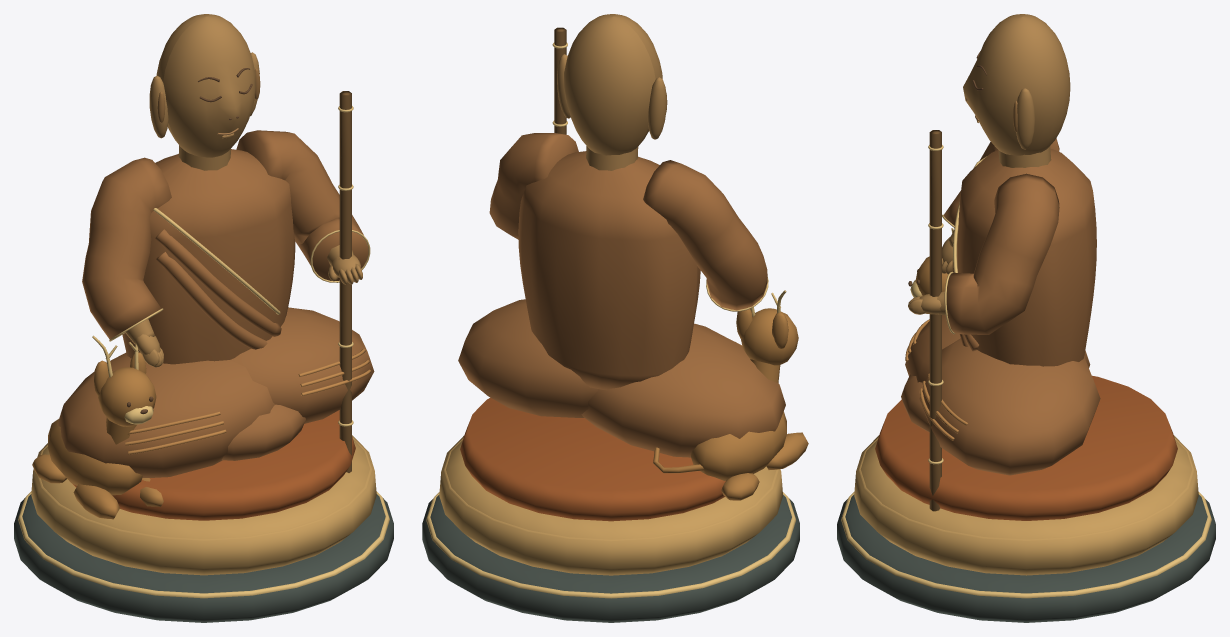
File: arhat_15_lod1.glb
3 views of the same model, side by side, from view 1: azimuth 30°, elevation 25°; view 2: azimuth 150°, elevation 25°; view 3: azimuth 270°, elevation 25° (orthographic).
Parts seen in each view (by area): view 1: arhat_15_ArhatDrapery, arhat_15_AntiqueGold, arhat_15_CarvedPlinth, arhat_15_WarmBronze, arhat_15_SaffronDrapery, arhat_15_AnimalBronze, arhat_15_RaisedGoldBorders, arhat_15_CarvedBamboo, arhat_15_DraperyFoldHighlights; view 2: arhat_15_ArhatDrapery, arhat_15_SaffronDrapery, arhat_15_AntiqueGold, arhat_15_CarvedPlinth, arhat_15_WarmBronze, arhat_15_AnimalBronze, arhat_15_RaisedGoldBorders, arhat_15_CarvedBamboo; view 3: arhat_15_ArhatDrapery, arhat_15_SaffronDrapery, arhat_15_AntiqueGold, arhat_15_CarvedPlinth, arhat_15_WarmBronze, arhat_15_CarvedBamboo, arhat_15_RaisedGoldBorders, arhat_15_DraperyFoldHighlights.
Boxes of the visible parts, <box> form: arhat_15_ArhatDrapery: <box>57,130,374,477</box>; arhat_15_AntiqueGold: <box>31,435,376,575</box>; arhat_15_CarvedPlinth: <box>14,494,393,622</box>; arhat_15_WarmBronze: <box>125,14,362,367</box>; arhat_15_SaffronDrapery: <box>73,410,355,520</box>; arhat_15_AnimalBronze: <box>32,352,163,519</box>; arhat_15_RaisedGoldBorders: <box>18,106,389,598</box>; arhat_15_CarvedBamboo: <box>339,91,351,472</box>; arhat_15_DraperyFoldHighlights: <box>125,348,370,454</box>; arhat_15_ArhatDrapery: <box>458,133,785,457</box>; arhat_15_SaffronDrapery: <box>460,397,725,521</box>; arhat_15_AntiqueGold: <box>439,436,782,575</box>; arhat_15_CarvedPlinth: <box>422,495,799,622</box>; arhat_15_WarmBronze: <box>557,14,666,170</box>; arhat_15_AnimalBronze: <box>653,308,808,500</box>; arhat_15_RaisedGoldBorders: <box>426,42,795,598</box>; arhat_15_CarvedBamboo: <box>554,27,566,134</box>; arhat_15_ArhatDrapery: <box>901,138,1100,475</box>; arhat_15_SaffronDrapery: <box>875,375,1177,520</box>; arhat_15_AntiqueGold: <box>854,435,1198,575</box>; arhat_15_CarvedPlinth: <box>837,494,1215,622</box>; arhat_15_WarmBronze: <box>908,14,1070,315</box>; arhat_15_CarvedBamboo: <box>929,130,941,511</box>; arhat_15_RaisedGoldBorders: <box>841,145,1211,598</box>; arhat_15_DraperyFoldHighlights: <box>905,319,967,440</box>.
Bounding box in the file's own units: 0.92 × 1.42 × 0.92.
